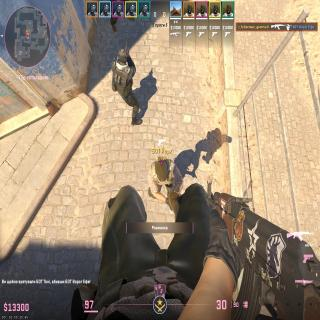CT-Body: (111, 46, 136, 124)
CT-Head: (118, 48, 127, 64)
T-Body: (147, 159, 183, 206)
T-Head: (154, 161, 168, 181)
